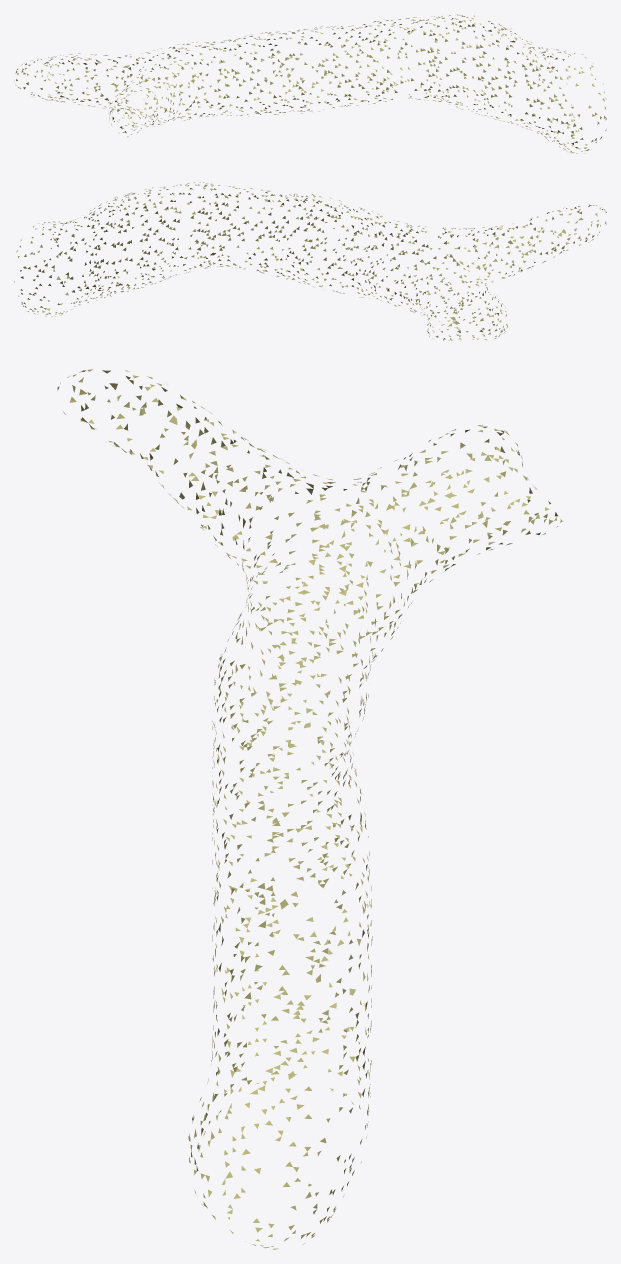
File: morph_009.glb
3 renders of one model, top to bottom at view 1: azimuth 30°, elevation 25°; view 2: azimuth 150°, elevation 25°; view 3: azimuth 270°, elevation 25°, orthographic. The views are drawn at different scales.
Bounding box in the file's own units: 112 × 40.7 × 47.07.
